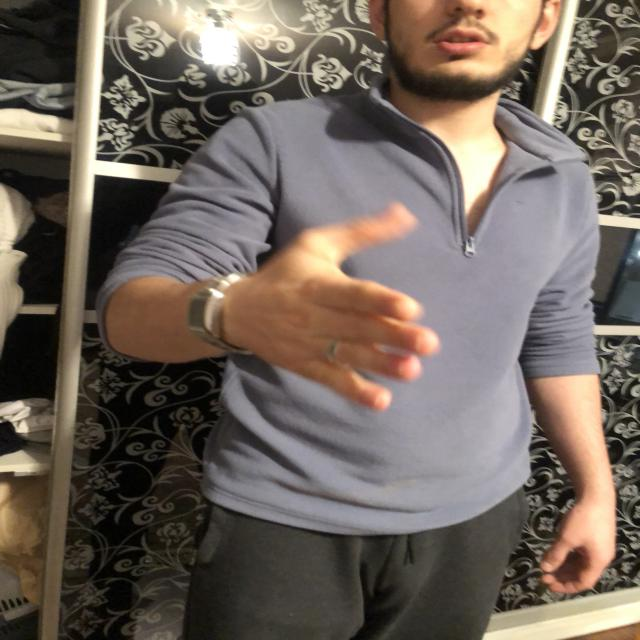paper: (260, 208, 440, 407)
